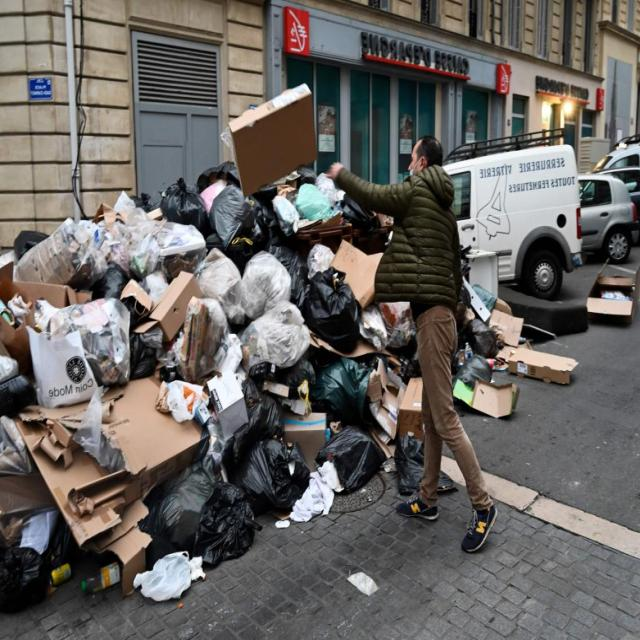garbage: (0, 120, 344, 640)
